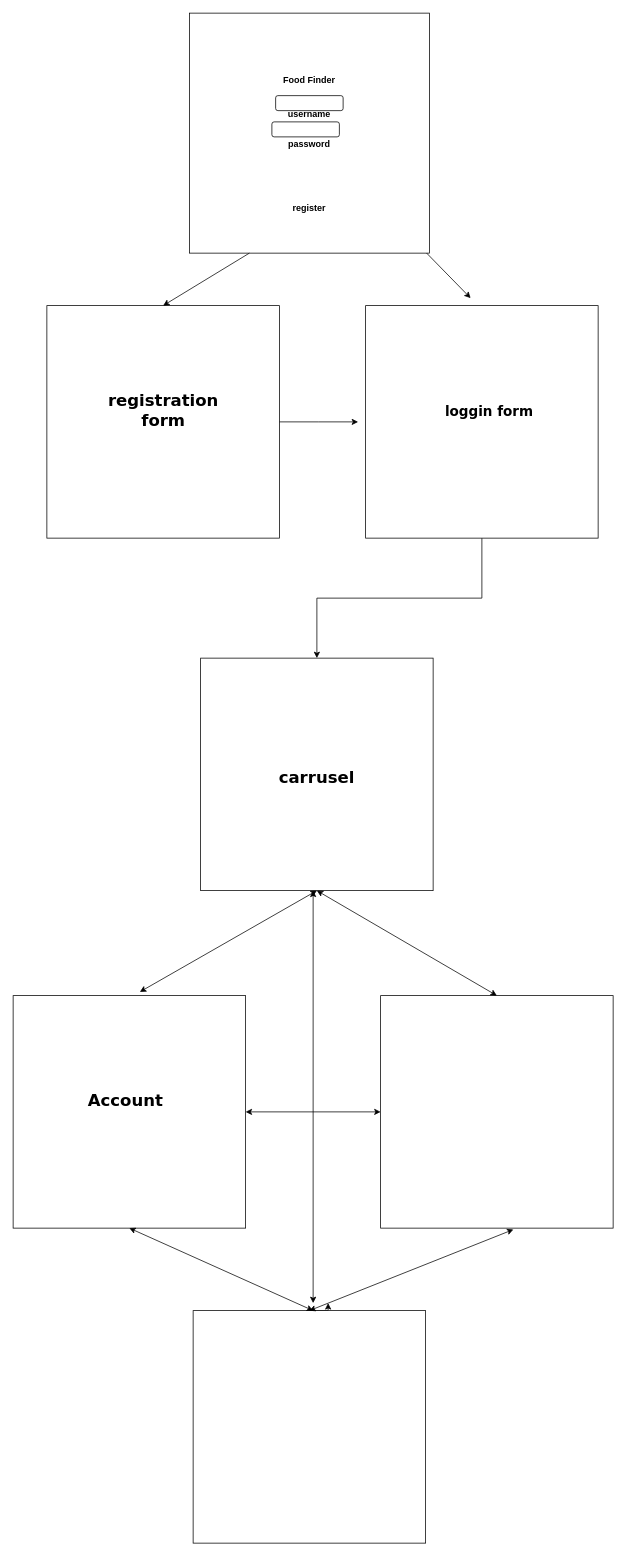
Some shapes in this 626 by 1556 pixel diagram are drawn without their labels. Each missing label, with the box of its shape:
Contact us: (192, 1310, 426, 1543)
List of Recipes: (380, 995, 613, 1228)
